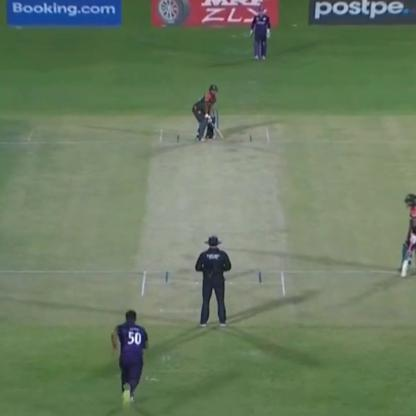bat: (395, 234, 414, 280), (203, 111, 226, 137)
pitch: (138, 126, 296, 309)
